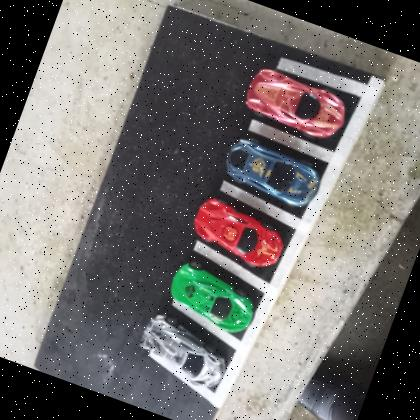Car: (240, 65, 354, 146), (132, 309, 237, 395), (186, 194, 292, 274), (219, 135, 326, 212), (162, 258, 262, 338)
